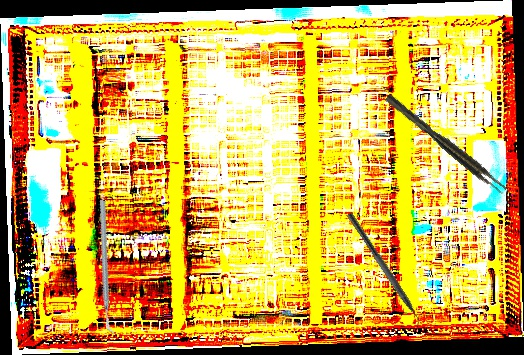Chopper: (56, 199, 159, 335), (339, 212, 429, 335)
Tissue Forceps: (384, 89, 509, 198)
